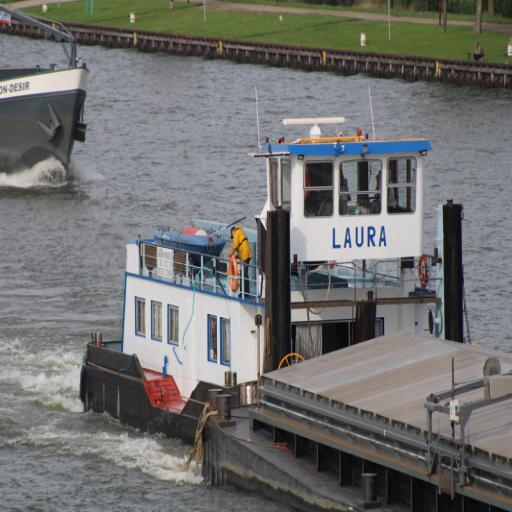tugboat: (74, 113, 470, 476)
